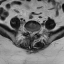CCS_normal: (30, 29, 32, 39)
LFS_normal: (34, 28, 36, 35)
LLS_normal: (32, 29, 34, 37)
RFS_normal: (27, 28, 28, 34)
RLS_normal: (28, 29, 30, 38)
